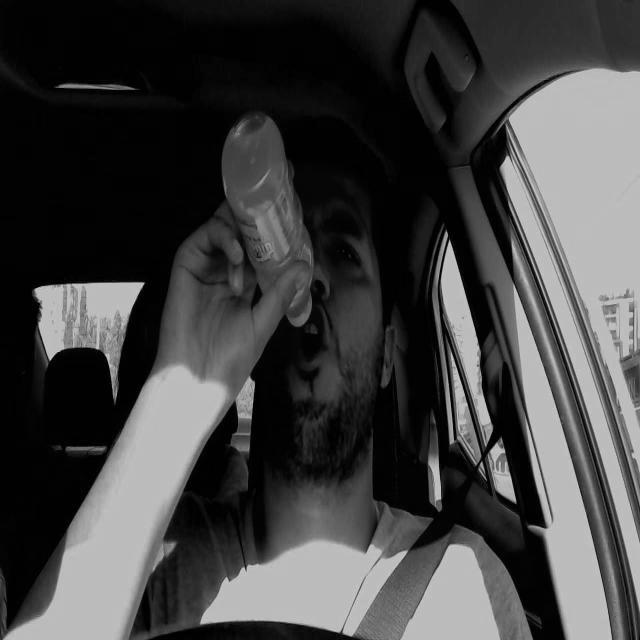Drinking: (207, 107, 313, 327)
